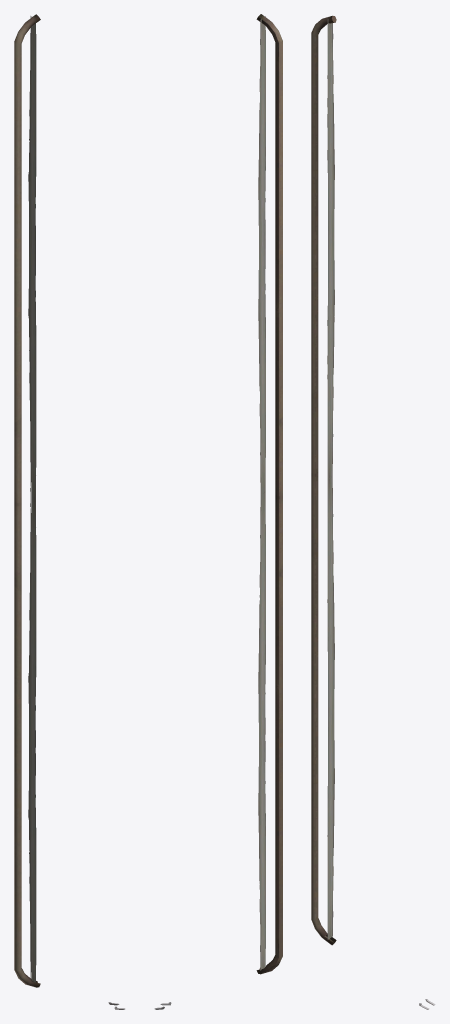
3 renders of one model, left to right at view 1: azimuth 30°, elevation 25°; view 2: azimuth 150°, elevation 25°; view 3: azimuth 330°, elevation 25°, orthographic. The views are drawn at different scales.
Parts seen in each view (by area): view 1: node_id4; view 2: node_id4; view 3: node_id4.
Boxes of the visible parts, bbox=[...] form: node_id4: bbox=[14, 14, 125, 1009]; node_id4: bbox=[154, 14, 282, 1009]; node_id4: bbox=[311, 15, 435, 1009].
Bounding box in the file's own units: 0.0551 × 0.4599 × 0.0133.
1 material, 1 textured.
